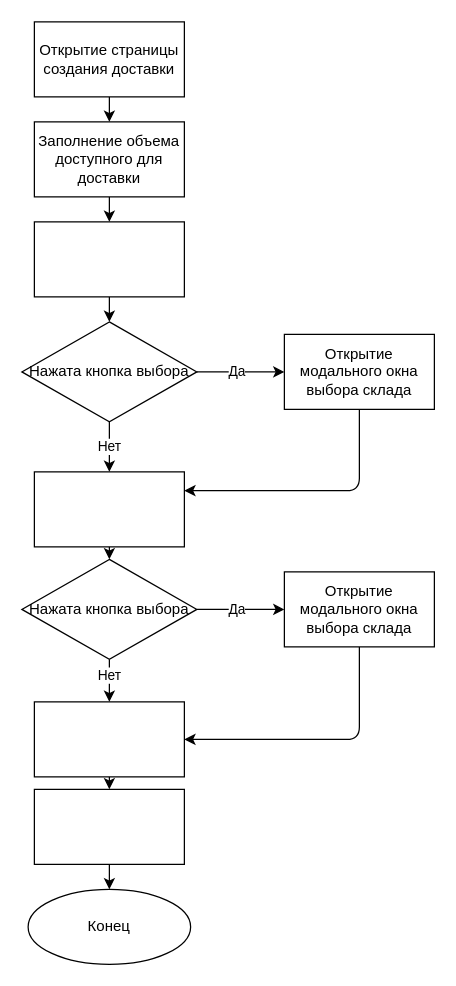
The diagram is 456 pixels wide and 986 high, and some of its shapes have lost their labels. Each missing label, with the box of its shape:
Выбор конечного пункта: (33, 471, 184, 547)
Выбор начального пункта: (33, 221, 184, 297)
Нажатие кнопки сохранение: (33, 701, 184, 777)
Переход на страницу информации о доставке: (33, 788, 184, 864)
